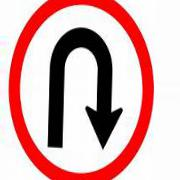back: (8, 1, 154, 180)
